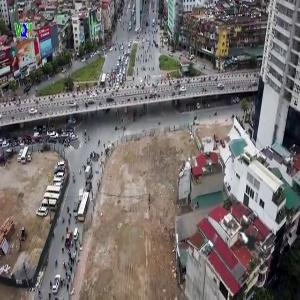drone: (212, 200, 297, 285)
